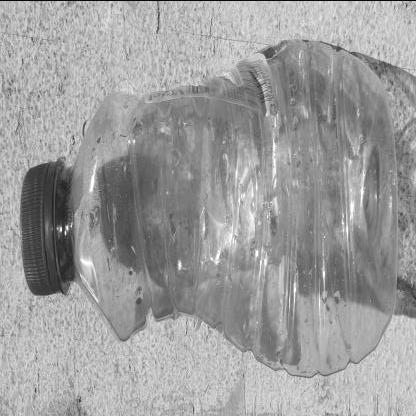bottle: (19, 34, 406, 376)
